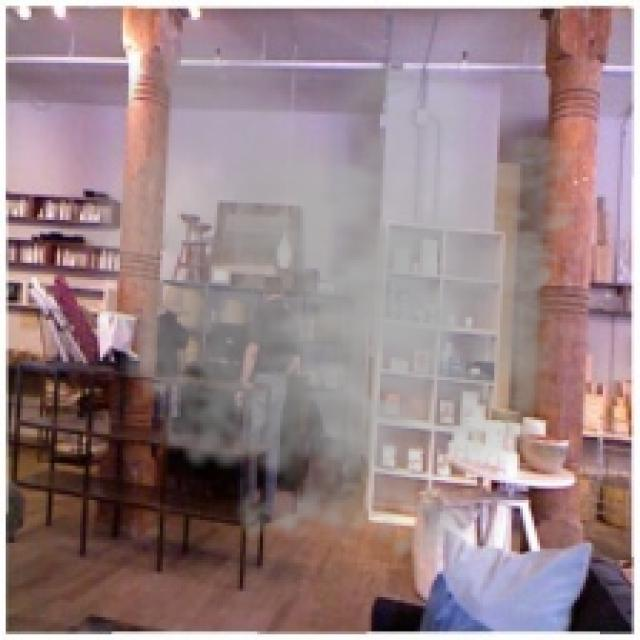smoke: (57, 26, 623, 577)
